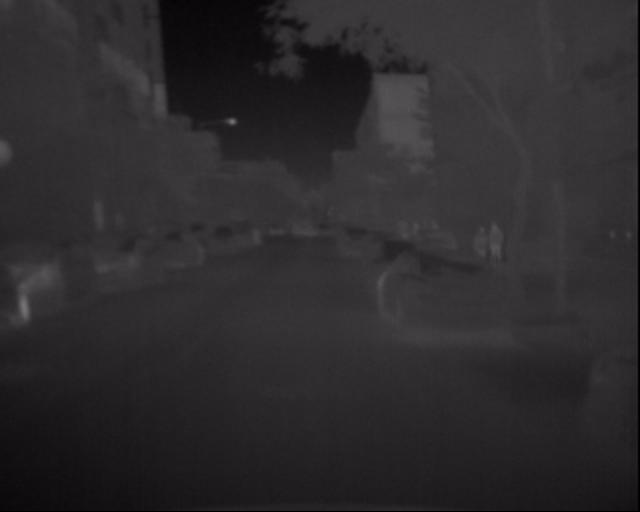person: (466, 222, 511, 267)
